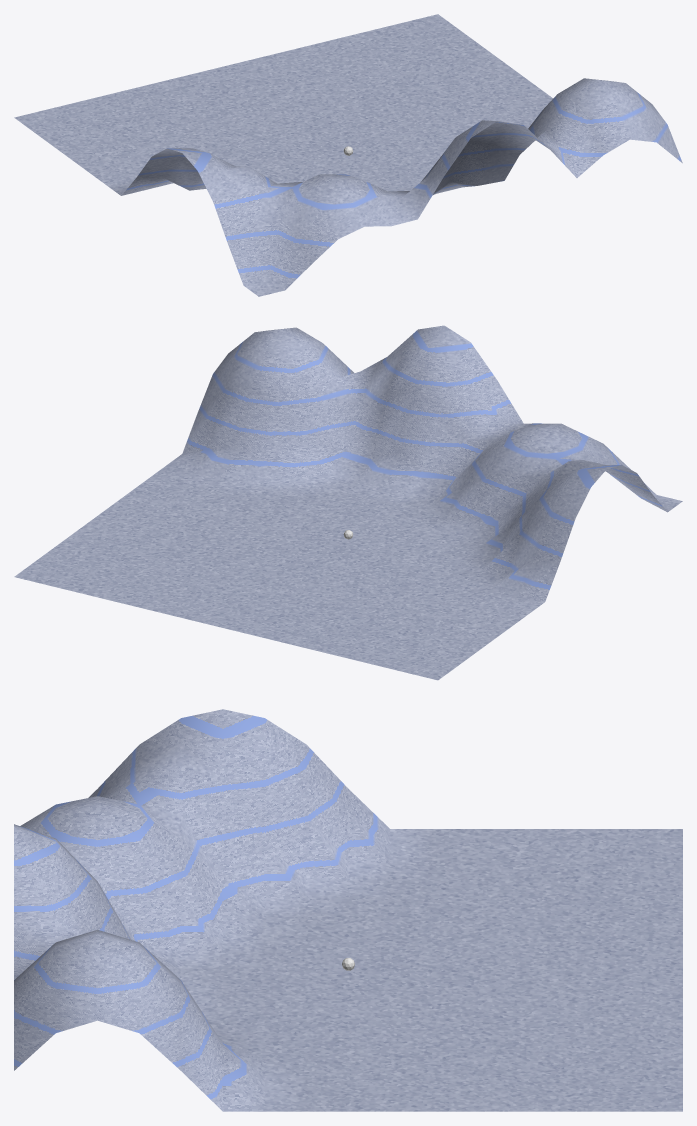
3 renders of one model, top to bottom at view 1: azimuth 30°, elevation 25°; view 2: azimuth 150°, elevation 25°; view 3: azimuth 270°, elevation 25°, orthographic. The views are drawn at different scales.
Visible parts, largest first — view 1: Plane; view 2: Plane; view 3: Plane.
Part boxes in pixels (<box>): Plane: <box>14,14,682,296</box>; Plane: <box>14,325,682,680</box>; Plane: <box>14,709,682,1111</box>.
Bounding box in the file's own units: 15 × 3.97 × 15.
1 material, 1 textured.
